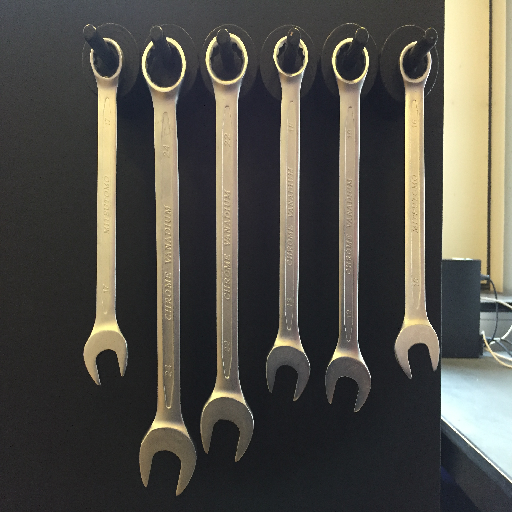bottom: (138, 426, 199, 497), (198, 395, 255, 464), (80, 330, 135, 388), (324, 350, 373, 415), (393, 317, 441, 380), (265, 342, 313, 403)
top: (139, 36, 190, 94), (203, 33, 251, 89), (85, 34, 130, 83), (329, 36, 372, 86), (269, 34, 311, 79), (397, 39, 435, 85)
